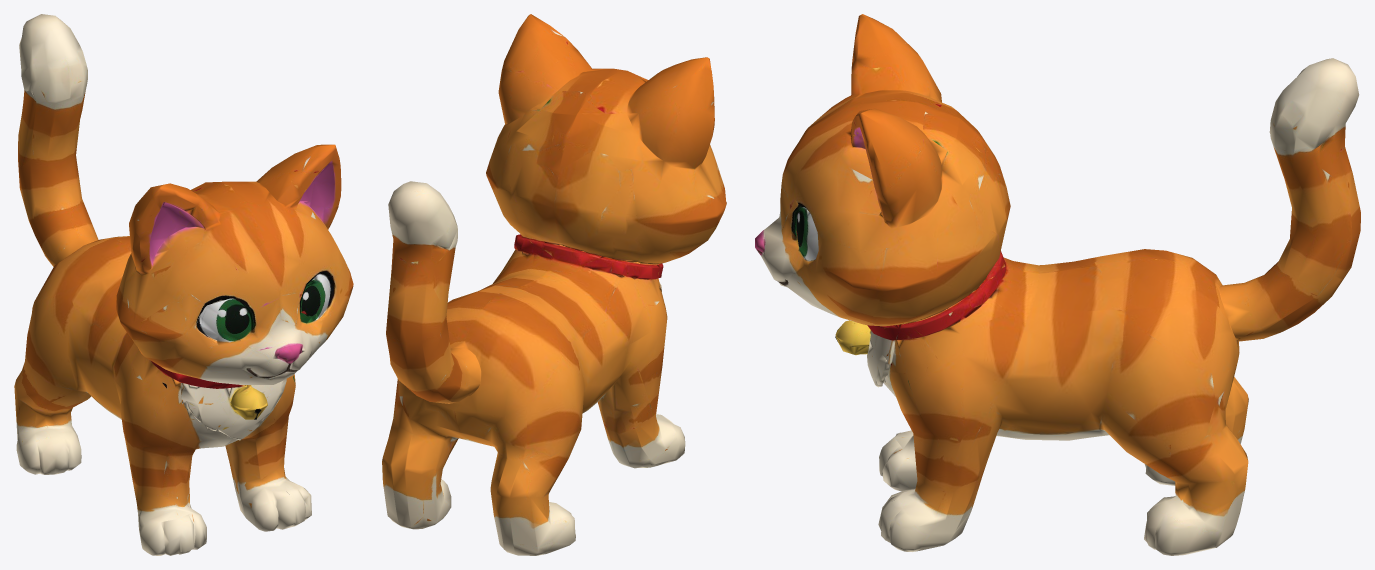
Rendered from cat.glb.
The picture shows the model from 3 angles, left to right: view 1: azimuth 30°, elevation 25°; view 2: azimuth 150°, elevation 25°; view 3: azimuth 270°, elevation 25°; orthographic projection. The views are drawn at different scales.
Bounding box in the file's own units: 0.9342 × 1.54 × 1.9.
1 material, 1 textured.
